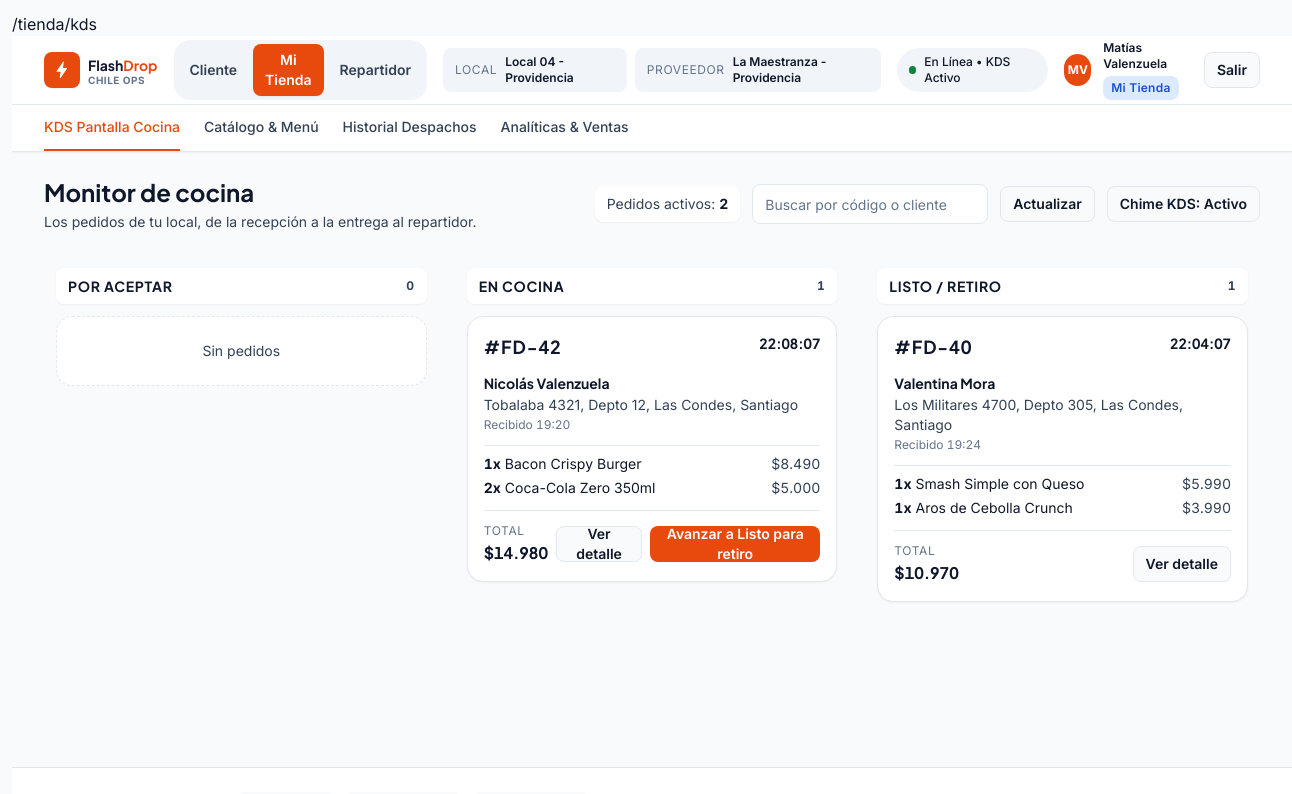
Test: kitchen display board › does not ring the chime when the kitchen silenced it
Click the button "Chime KDS: Activo" at (1183, 204), box [1107,186,1260,222]
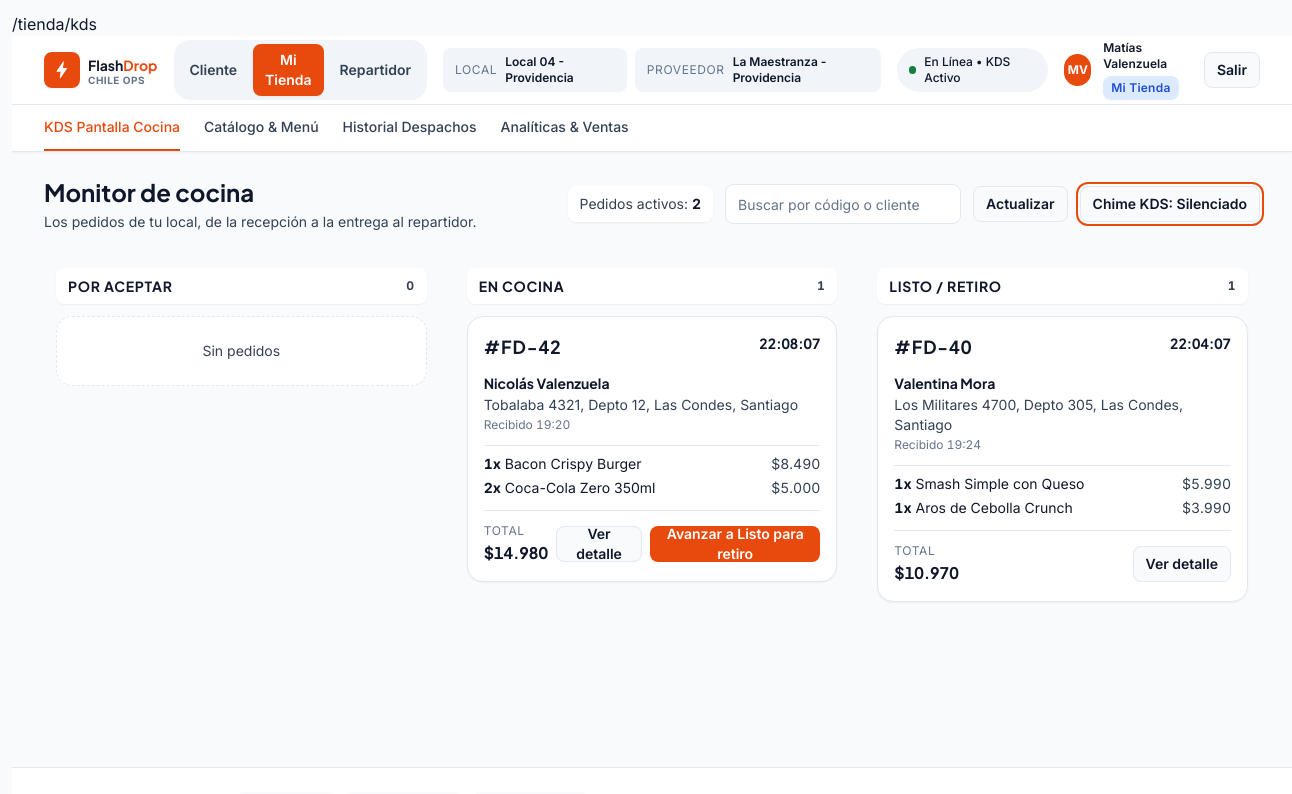
Click the button "Avanzar a Listo para retiro" at (735, 544), box [650,526,820,562]
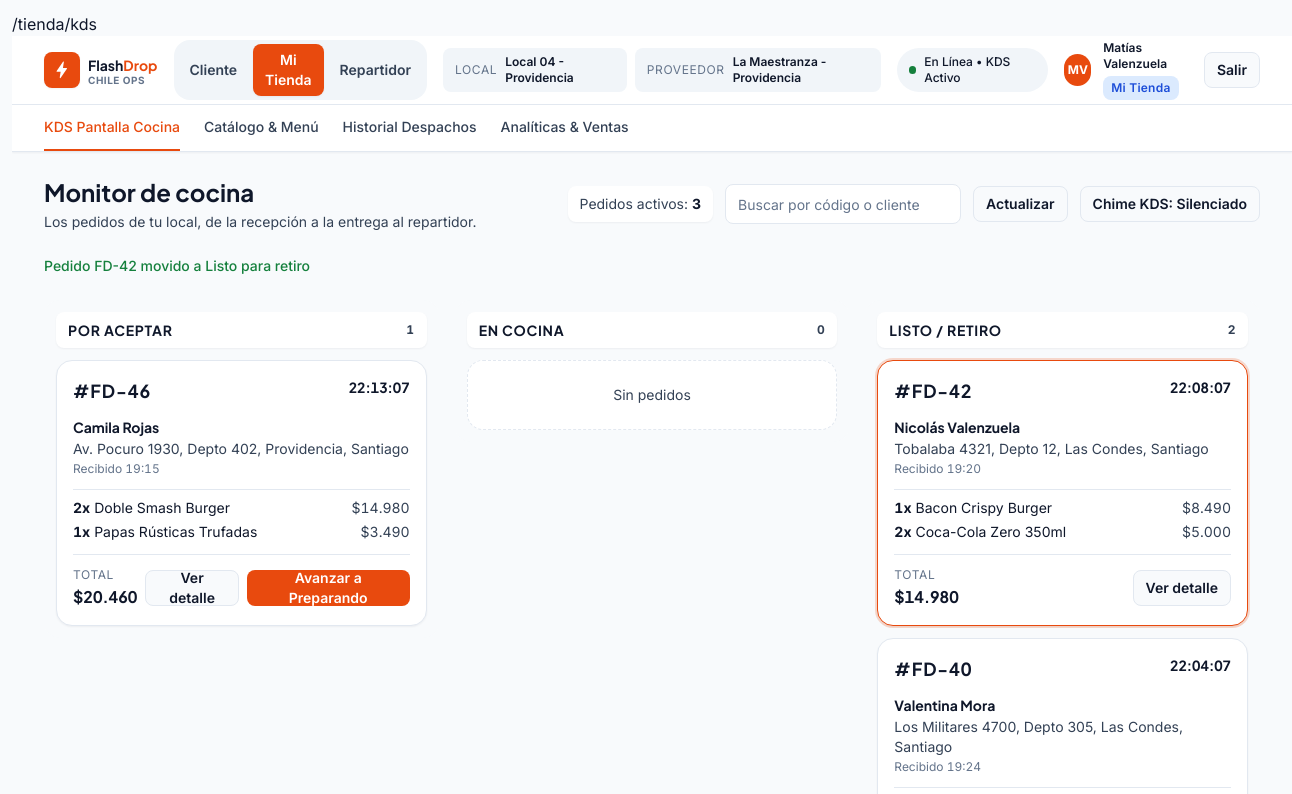
Check: the button "Chime KDS: Silenciado" is shown, box [1080,186,1260,222]
Check: the text "#FD-46" is shown, box [73,377,151,405]
